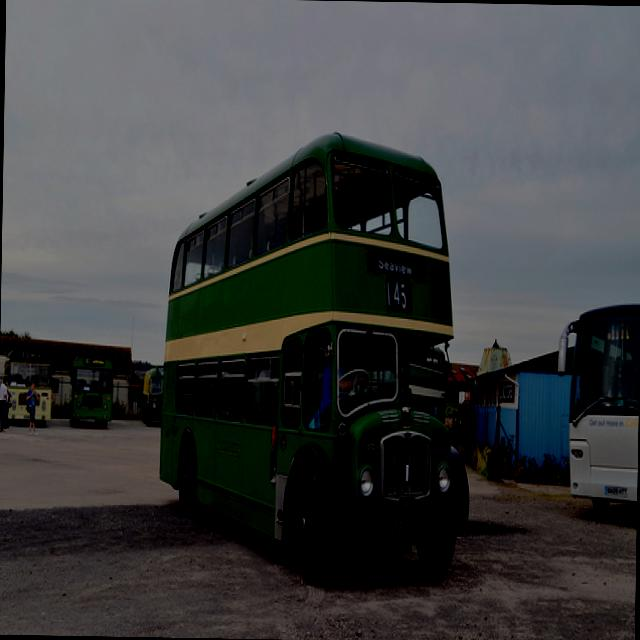Vehicle: (154, 128, 476, 586), (547, 289, 640, 514), (67, 354, 116, 430), (8, 346, 54, 422), (142, 365, 164, 426)
